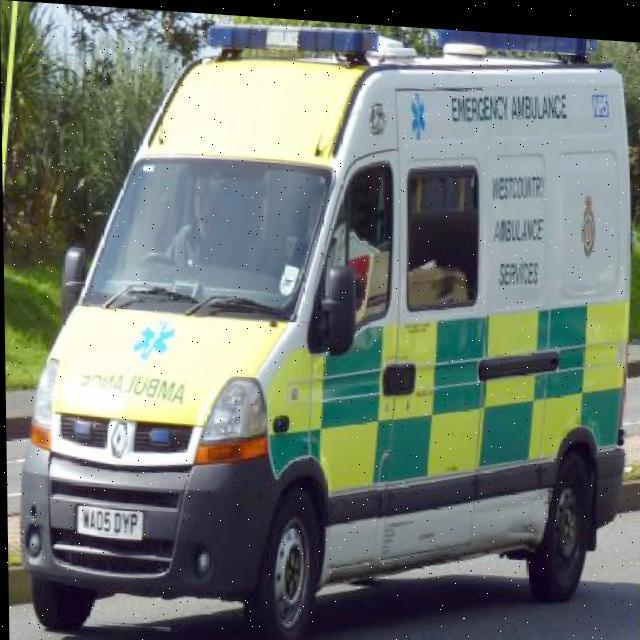Ambulance: (4, 0, 640, 640), (157, 170, 251, 273)
